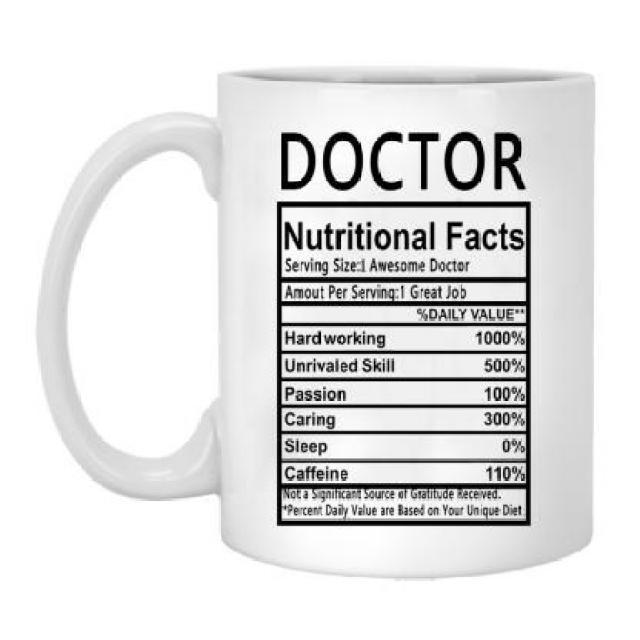taza: (23, 60, 606, 580)
